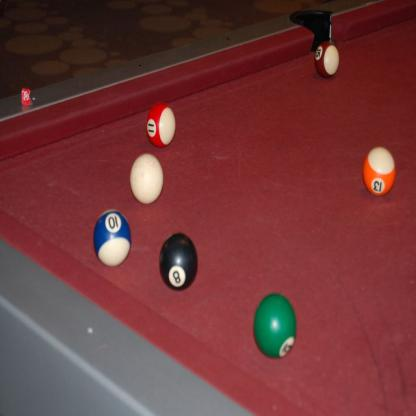Ball: (254, 296, 296, 358), (160, 233, 198, 291), (93, 211, 130, 268), (129, 152, 163, 204), (363, 148, 396, 192), (148, 103, 177, 147), (315, 40, 339, 77)
